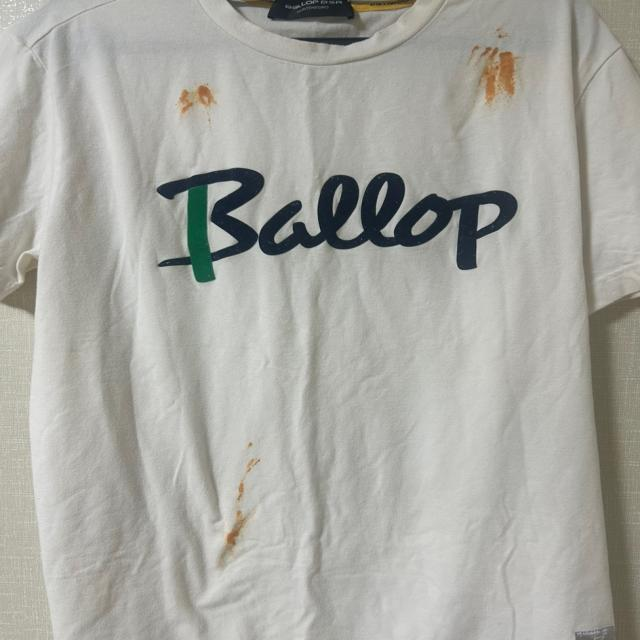stain: (463, 43, 528, 102), (230, 441, 262, 553), (173, 80, 220, 117), (496, 22, 514, 42)
